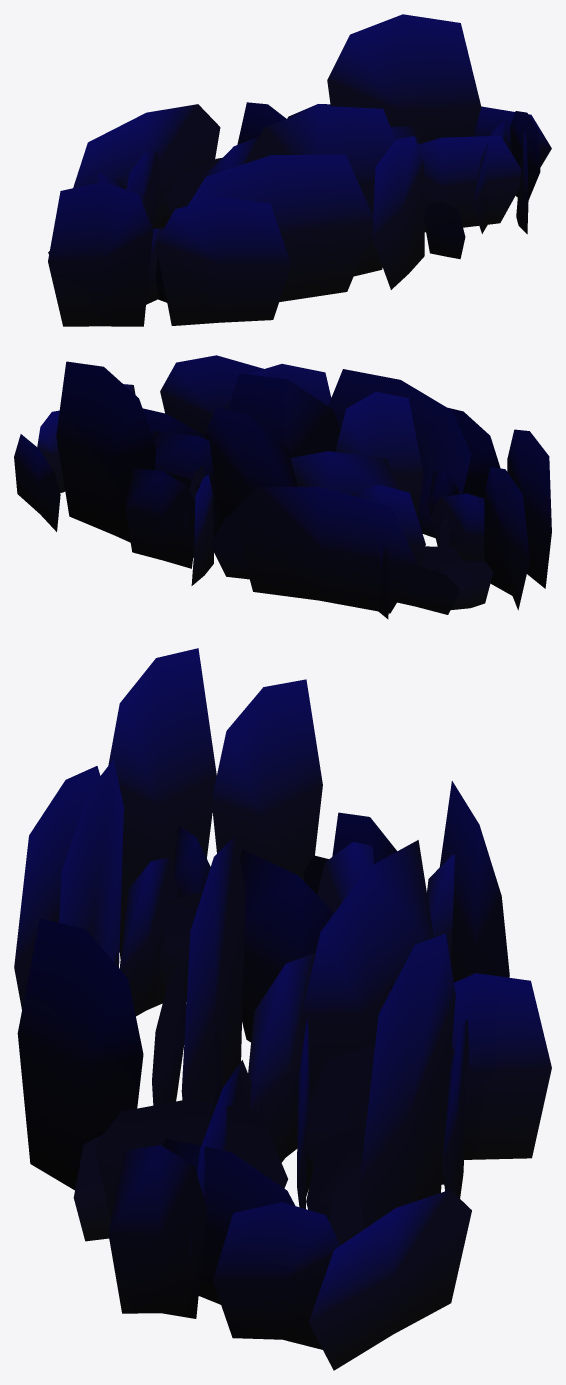
The model's file is SM_Grass_M_Patch_L_03.fbx.
3 views of the same model, one above another, from view 1: azimuth 30°, elevation 25°; view 2: azimuth 150°, elevation 25°; view 3: azimuth 270°, elevation 25° (orthographic). The views are drawn at different scales.
Parts seen in each view (by area): view 1: SM_Grass_M_Patch_L_03; view 2: SM_Grass_M_Patch_L_03; view 3: SM_Grass_M_Patch_L_03.
Part boxes in pixels (box(x1,y1,x2,y2)): SM_Grass_M_Patch_L_03: box(48, 14, 551, 326); SM_Grass_M_Patch_L_03: box(14, 355, 551, 619); SM_Grass_M_Patch_L_03: box(14, 648, 551, 1370).
Bounding box in the file's own units: 446 × 208 × 139.
